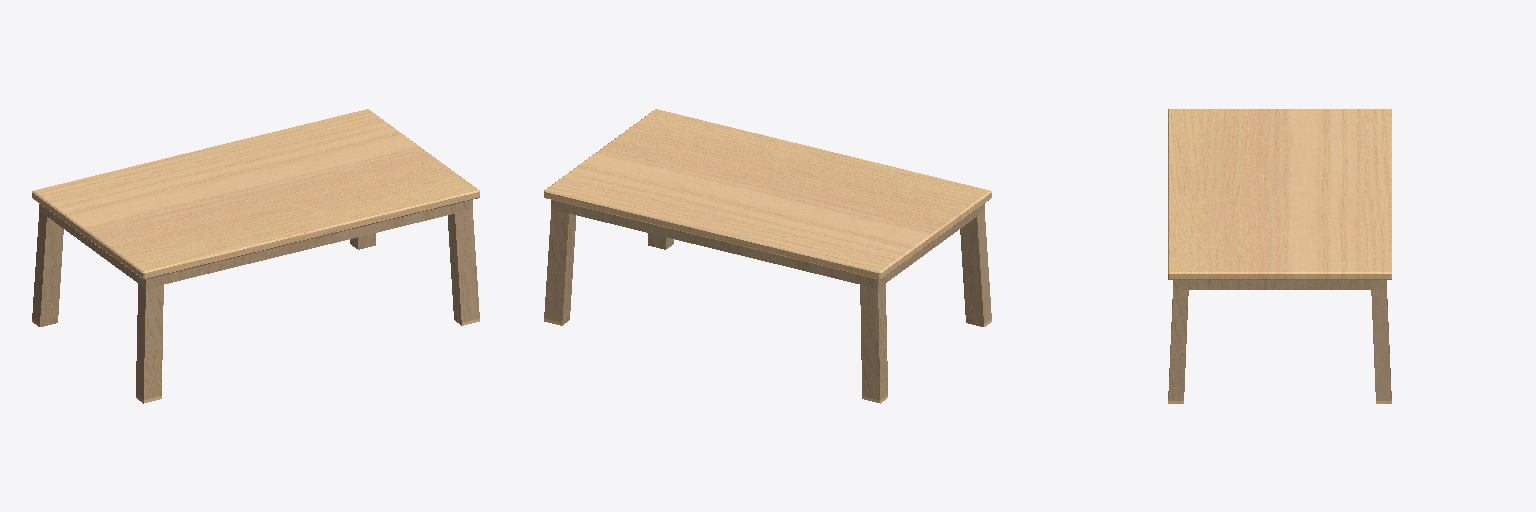
3 renders of one model, left to right at view 1: azimuth 30°, elevation 25°; view 2: azimuth 150°, elevation 25°; view 3: azimuth 270°, elevation 25°, orthographic.
Parts seen in each view (by area): view 1: table_1; view 2: table_1; view 3: table_1.
Part boxes in pixels (bbox=[...]): table_1: bbox=[32, 109, 479, 403]; table_1: bbox=[544, 109, 991, 403]; table_1: bbox=[1168, 109, 1391, 403].
Bounding box in the file's own units: 15.95 × 5.92 × 9.18.
1 materials, 1 textured.